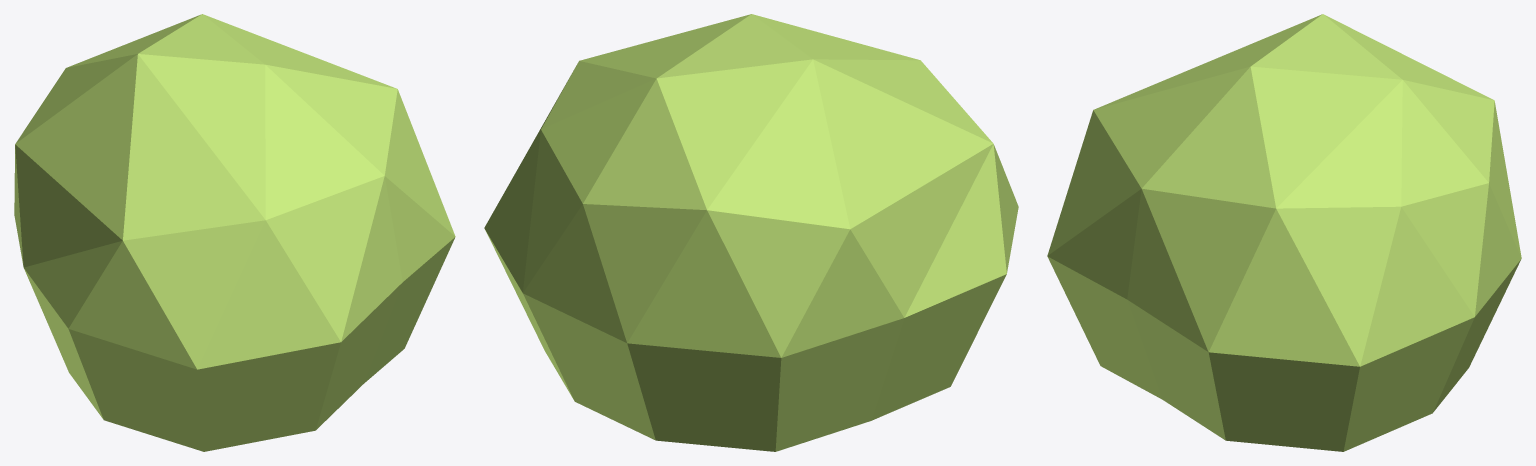
The model's file is Bush_h_m_05.fbx.
The picture shows the model from 3 angles, left to right: view 1: azimuth 30°, elevation 25°; view 2: azimuth 150°, elevation 25°; view 3: azimuth 270°, elevation 25°; orthographic projection. The views are drawn at different scales.
Parts seen in each view (by area): view 1: Bush_h_m_05; view 2: Bush_h_m_05; view 3: Bush_h_m_05.
Boxes of the visible parts, bbox=[...] form: Bush_h_m_05: bbox=[14, 14, 455, 451]; Bush_h_m_05: bbox=[484, 14, 1018, 451]; Bush_h_m_05: bbox=[1047, 14, 1521, 451].
Bounding box in the file's own units: 1.65 × 1.23 × 1.65.
